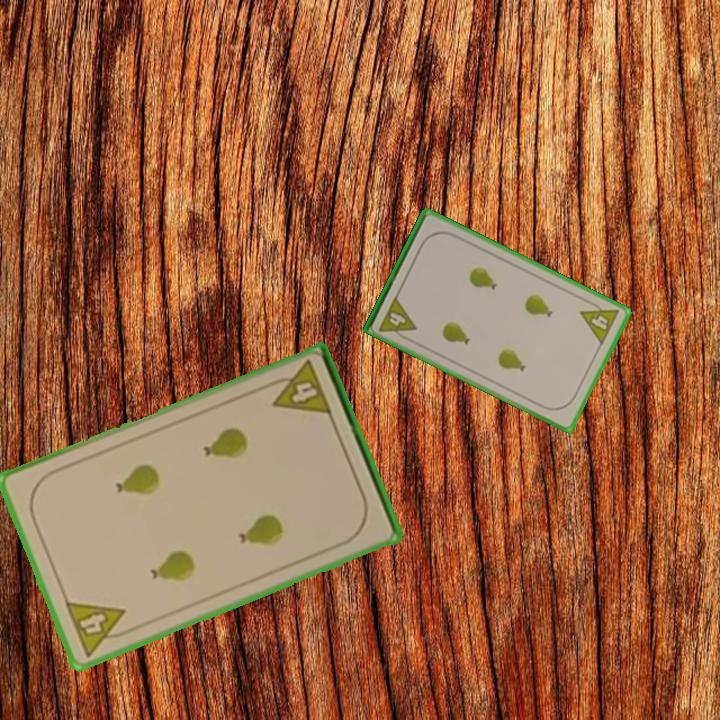4p: (61, 597, 135, 660), (263, 357, 335, 419), (577, 296, 622, 348), (375, 292, 419, 344)
